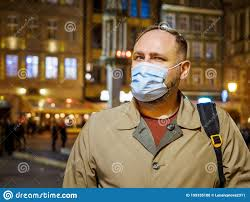mask: (130, 63, 169, 101)
